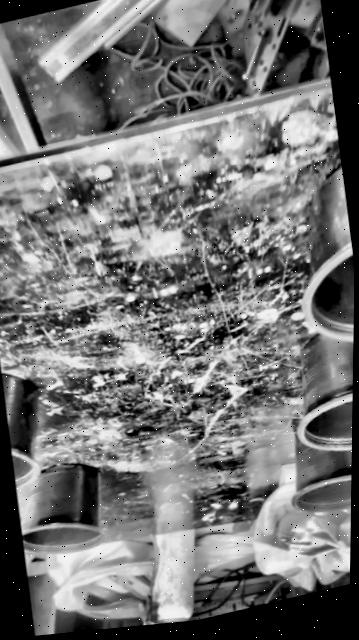pot: (266, 241, 355, 464), (301, 165, 354, 340), (19, 464, 103, 553), (0, 366, 46, 485), (291, 434, 352, 511)
